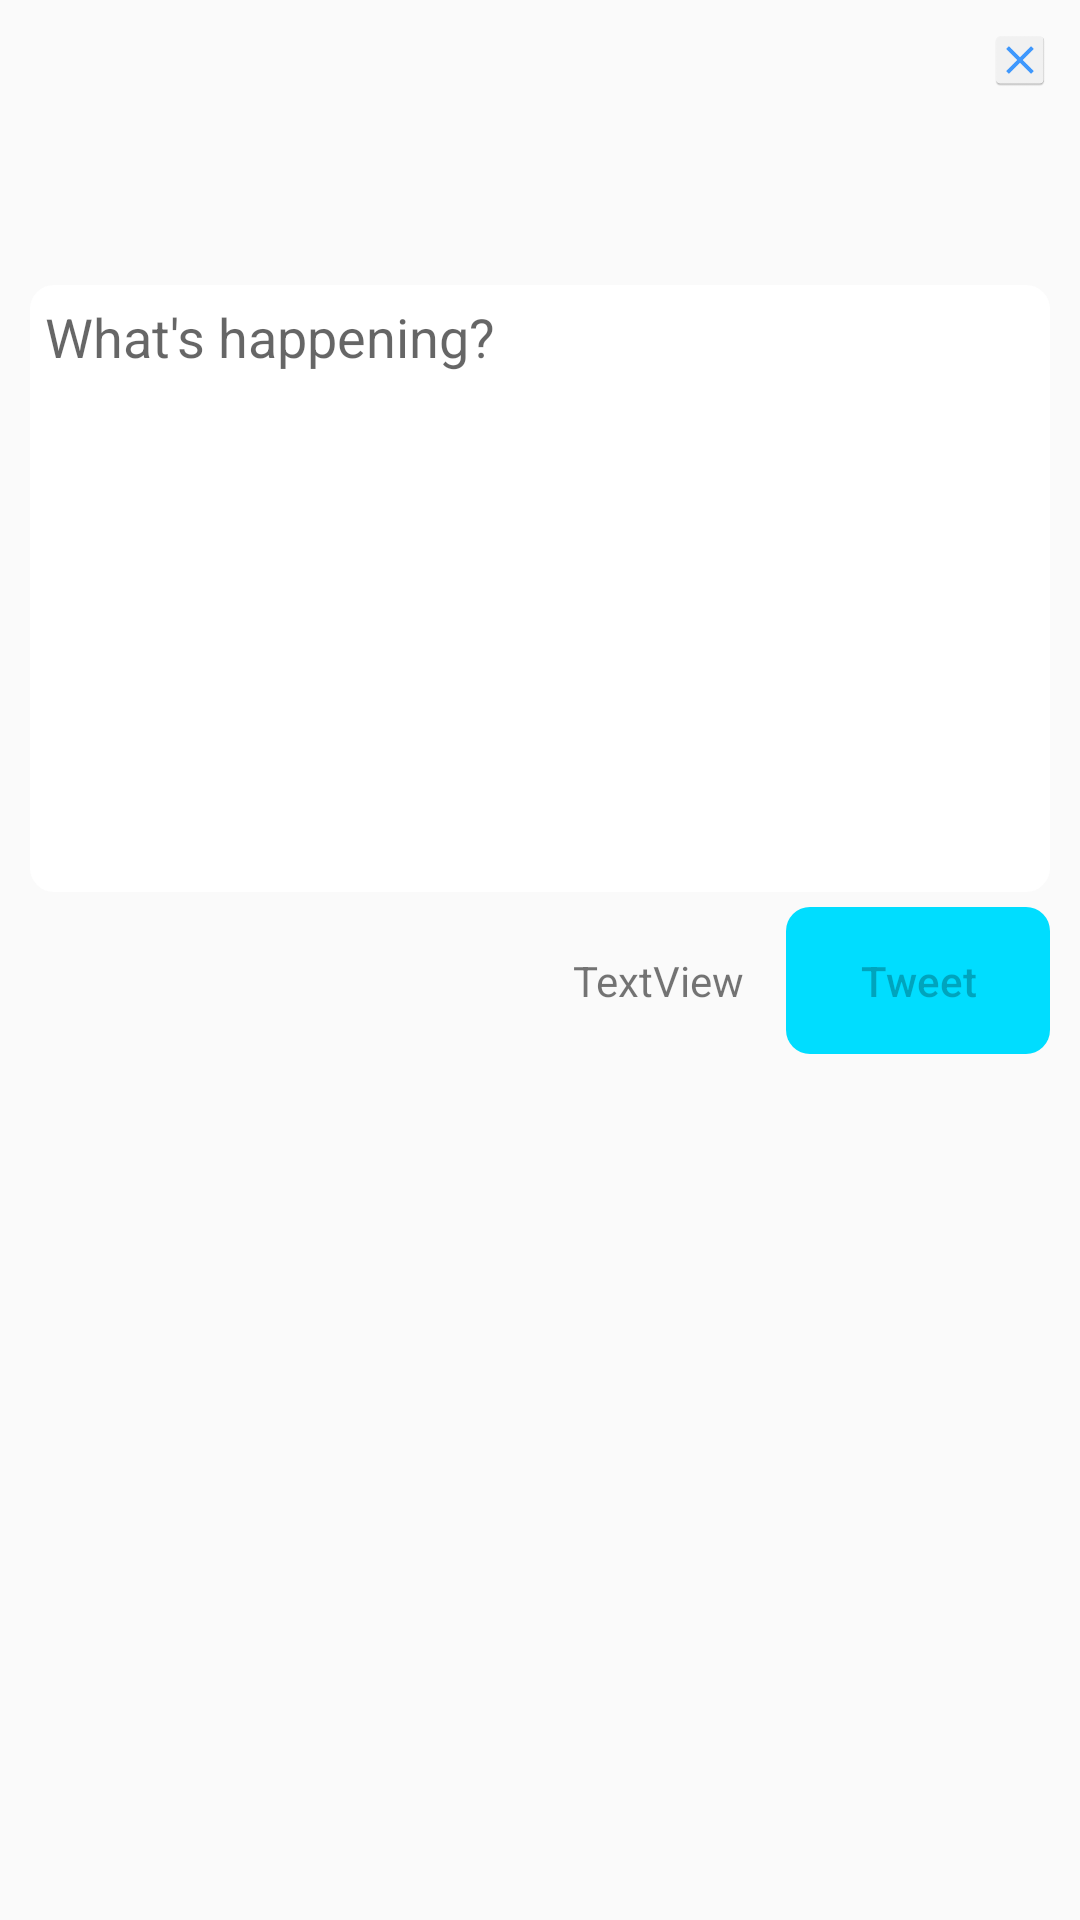

Locate icon controls on the screen. Image size 1080 × 1920, boxes as (x1, y1, x2, y2).
close: (996, 37, 1044, 86)
